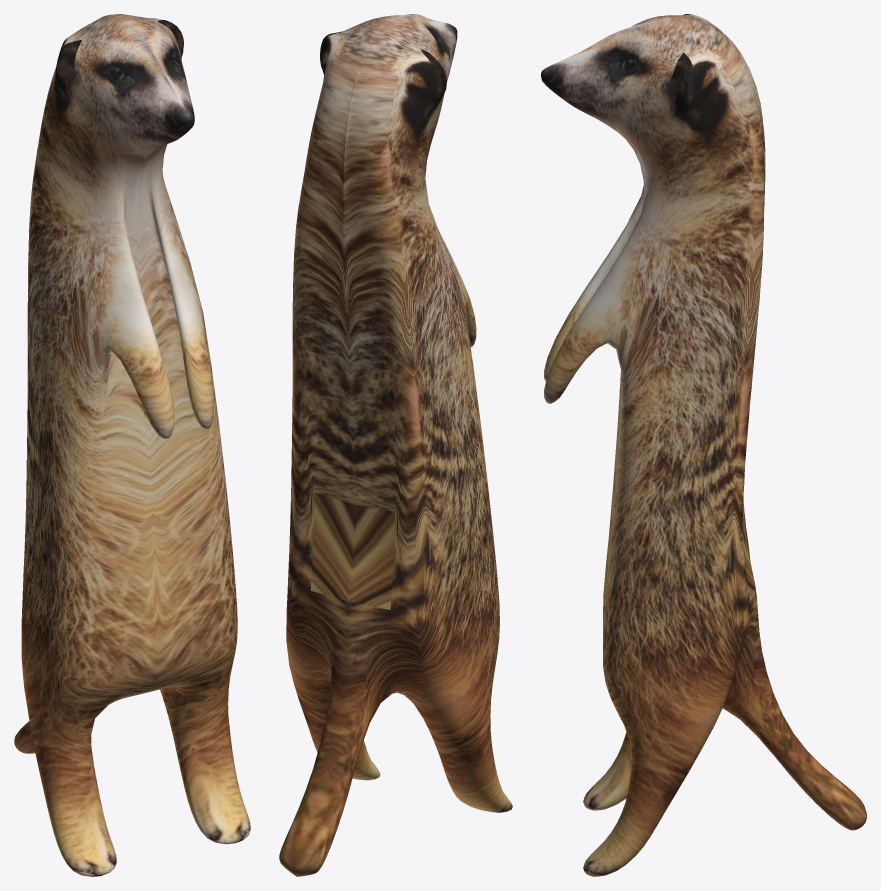
Rendered from smoothmeerkat.glb.
3 views of the same model, side by side, from view 1: azimuth 30°, elevation 25°; view 2: azimuth 150°, elevation 25°; view 3: azimuth 270°, elevation 25° (orthographic). The views are drawn at different scales.
Parts seen in each view (by area): view 1: Plane.009; view 2: Plane.009; view 3: Plane.009.
Part boxes in pixels (<box>): Plane.009: <box>14,14,250,876</box>; Plane.009: <box>279,14,512,876</box>; Plane.009: <box>541,14,866,876</box>.
Size of the model in its own units: 1.07 by 4.44 by 1.6.
1 material, 1 textured.
